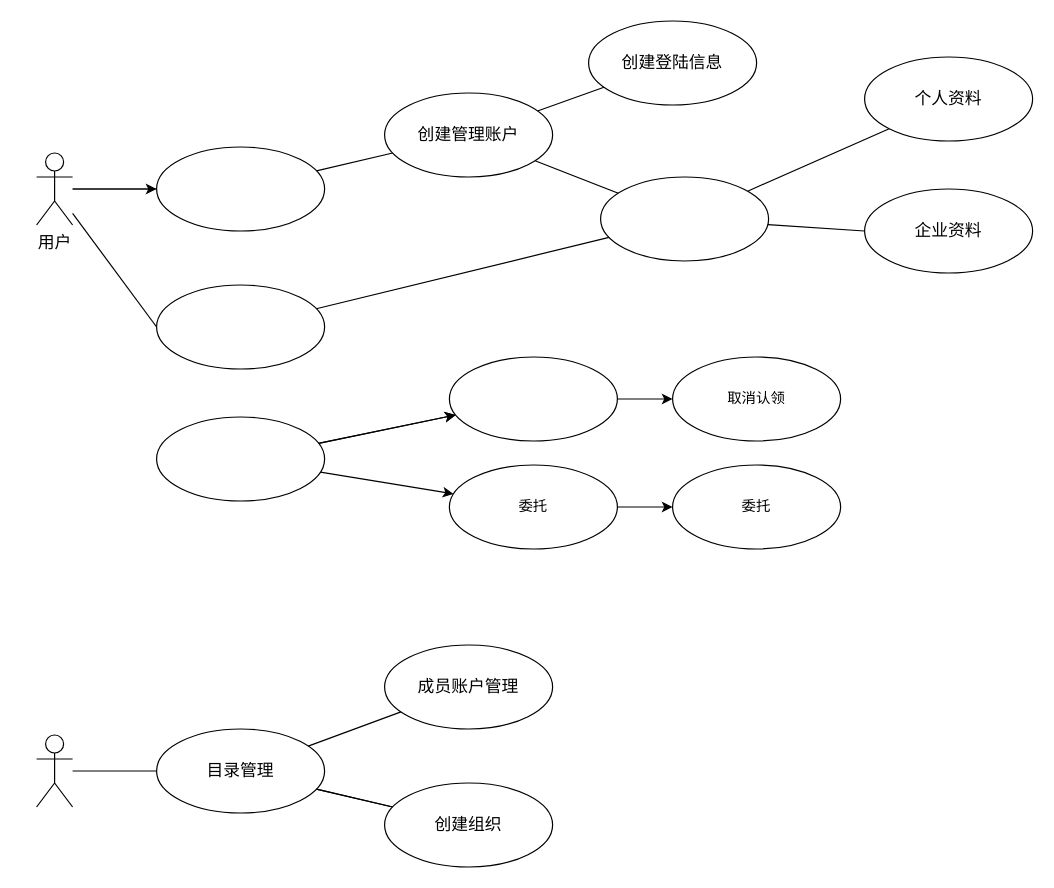
The diagram is 1054 pixels wide and 888 high, and some of its shapes have lost their labels. The centre of each missing label's shape, as x and y in pixels:
任务管理: the point at 240,458
注册: the point at 240,188
用户信息: the point at 684,218
管理账户: the point at 54,770
编辑账户: the point at 240,326
认领: the point at 532,398
